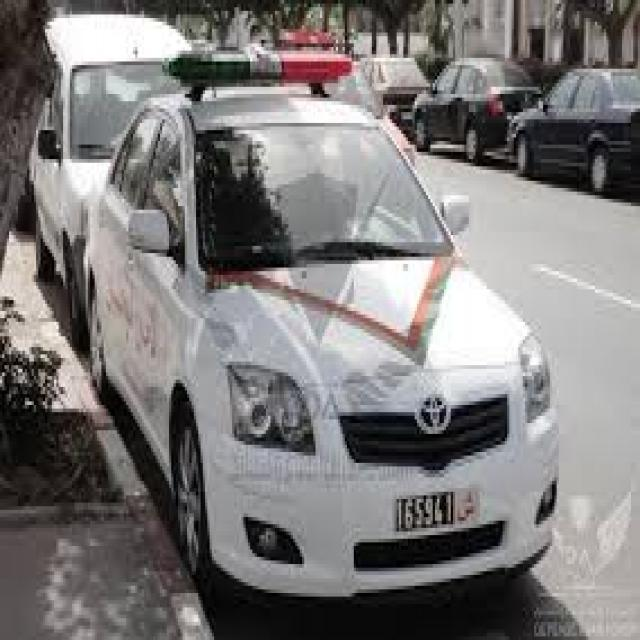police: (89, 50, 556, 594)
